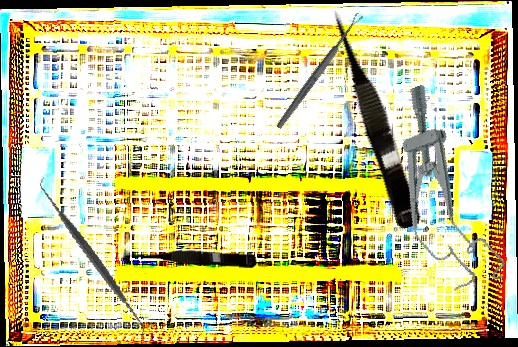Micro Scissor: (324, 4, 427, 231), (125, 244, 258, 269)
Spatula Surgical: (9, 176, 176, 339)
Speculum: (367, 78, 510, 302)
Surgical Spoon: (274, 11, 365, 131)
